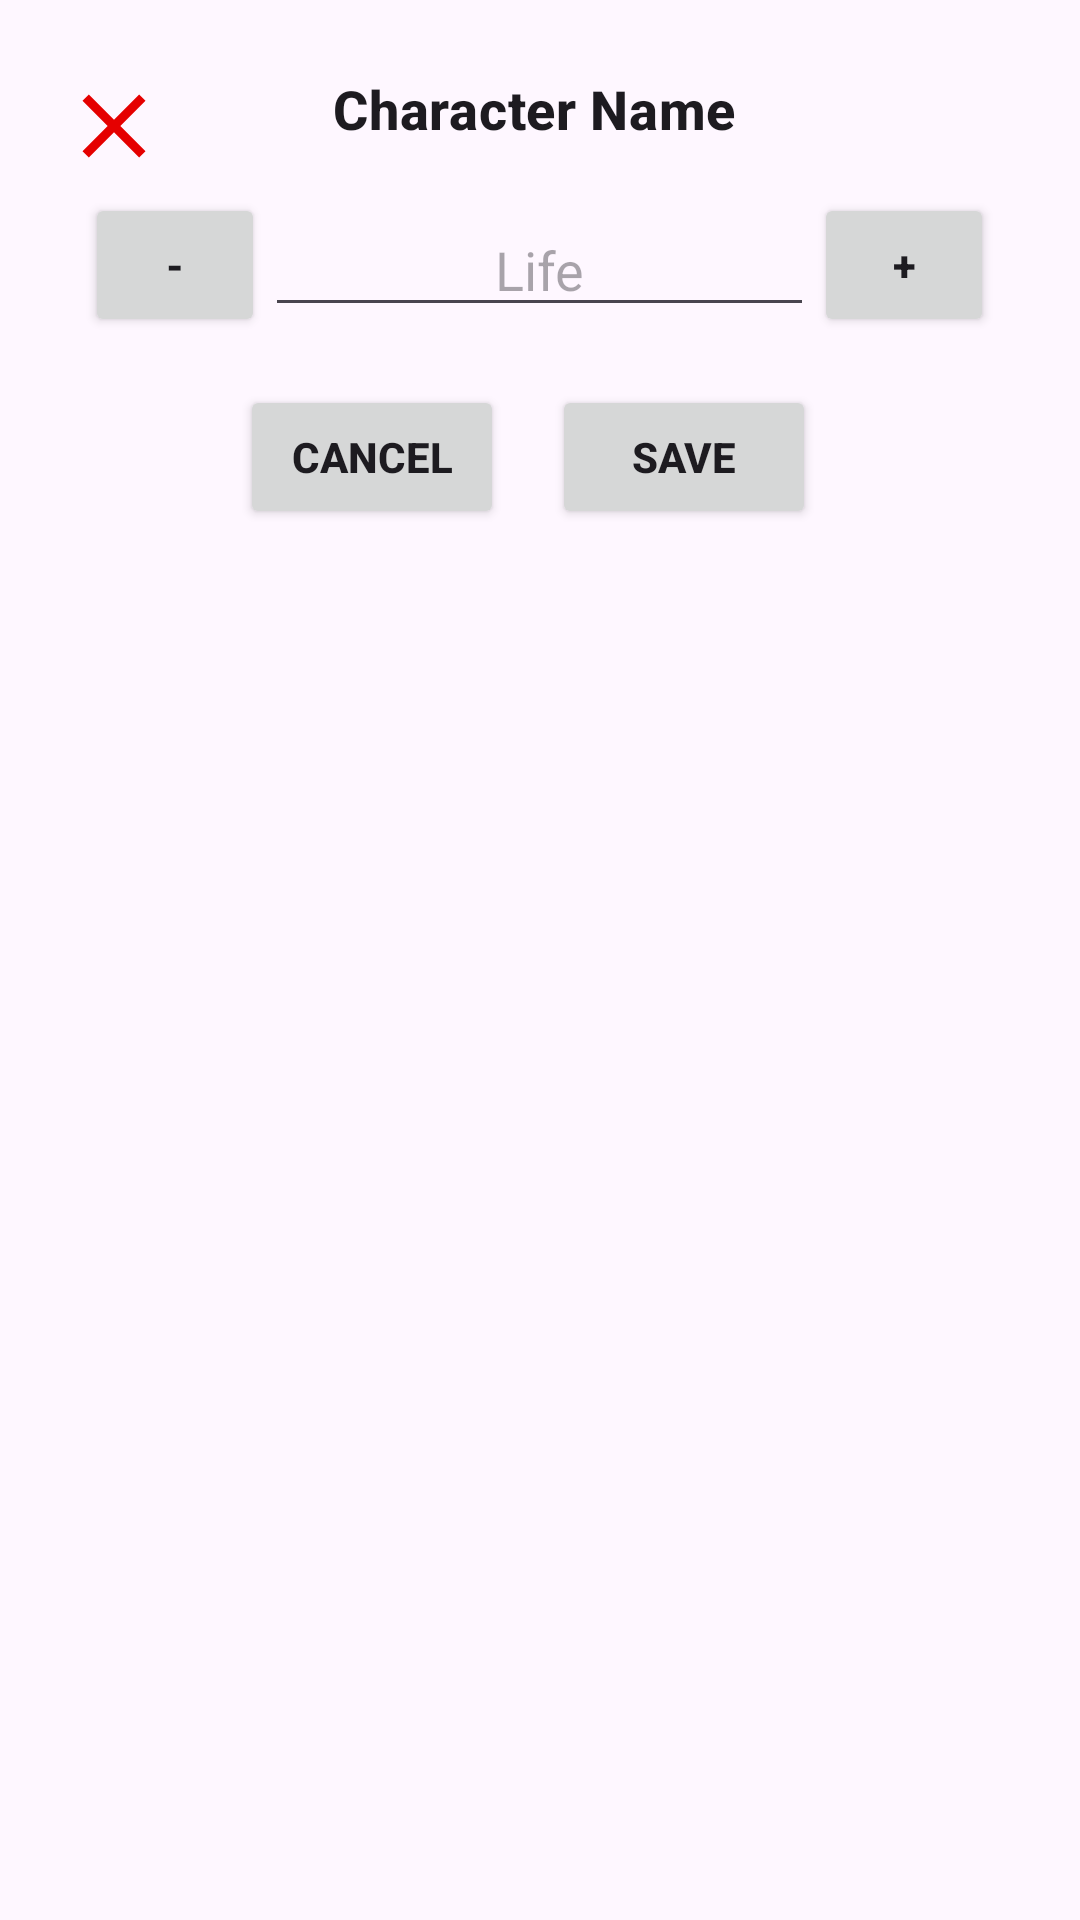

Screen size 1080px x 1920px. Icon name, then its center in pixels as [x,y]:
Close popup: [114,126]
